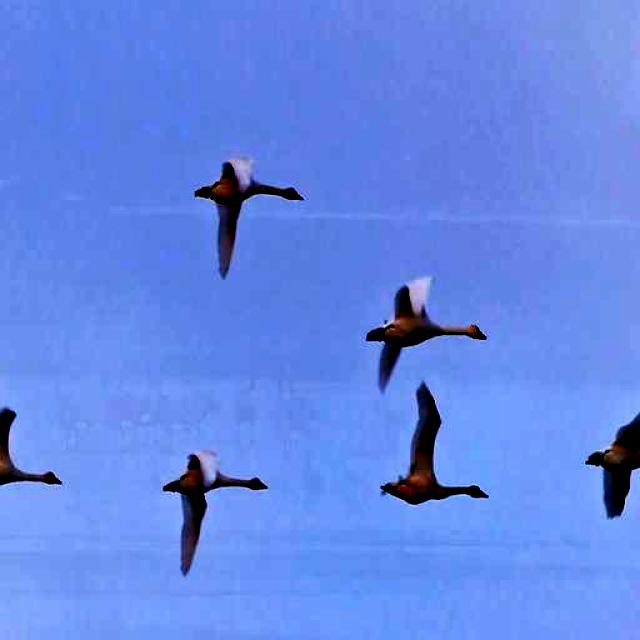airplane: (358, 270, 500, 400), (370, 386, 495, 531), (195, 149, 310, 300), (158, 439, 276, 585), (582, 365, 640, 549), (0, 395, 62, 511)
